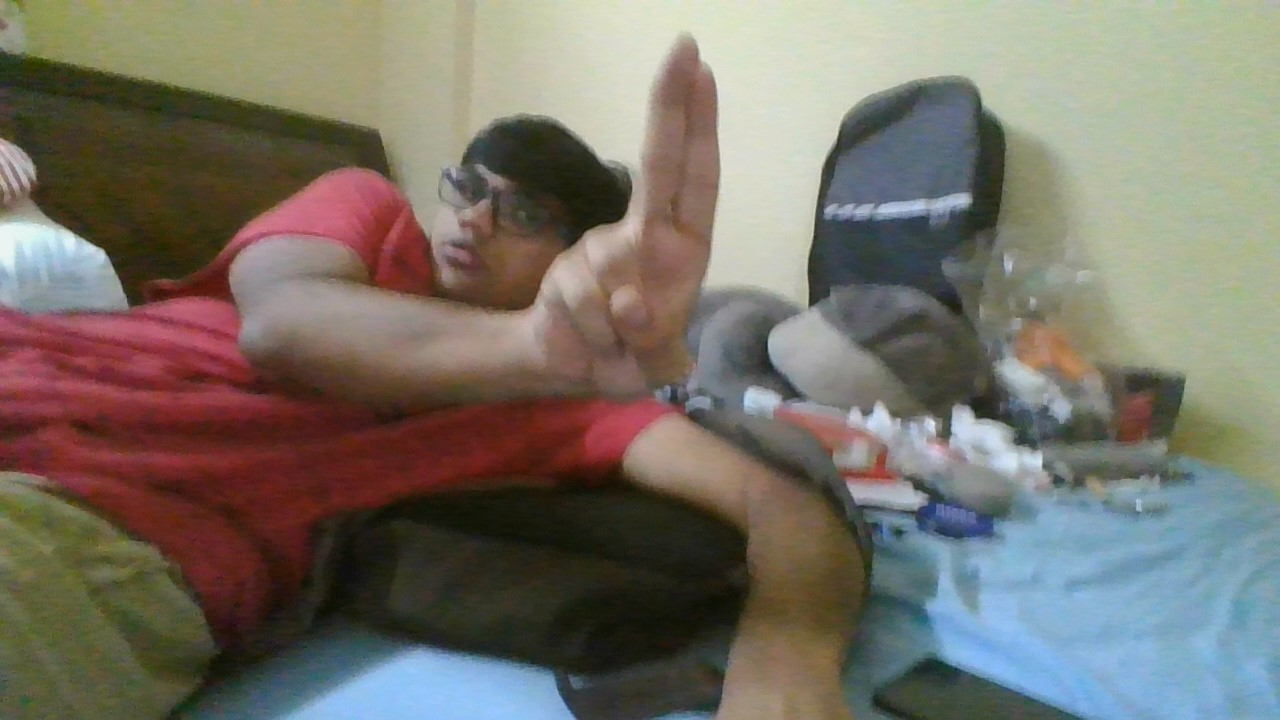u: (530, 29, 727, 403)
